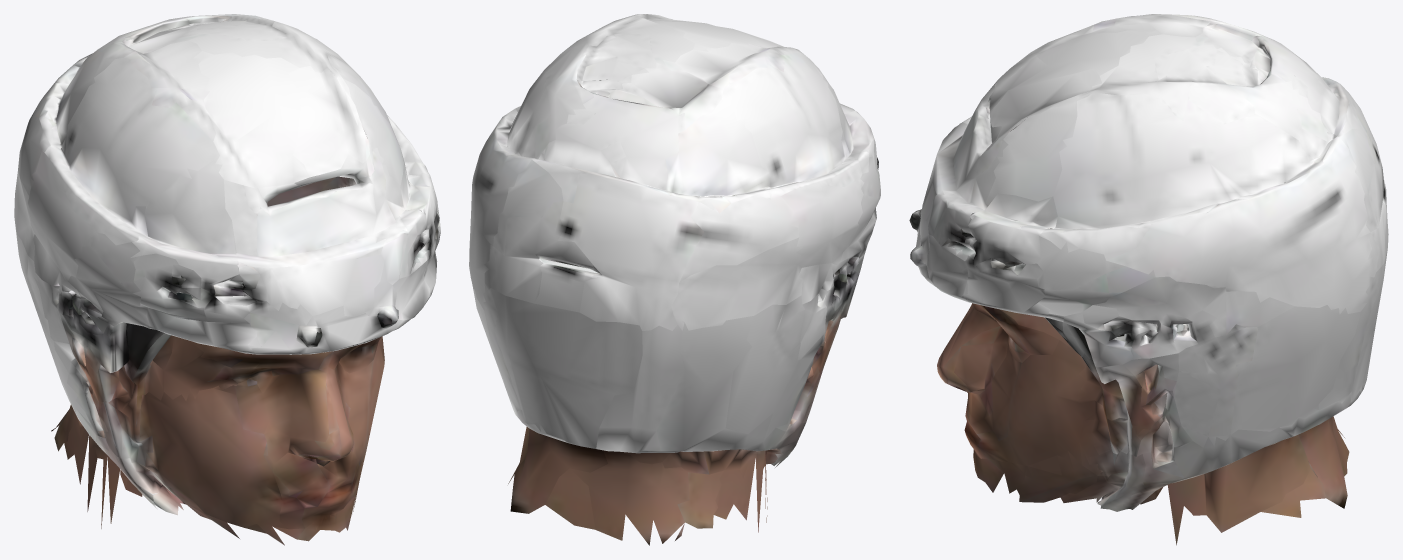
Rendered from head_A_low.glb.
The picture shows the model from 3 angles, left to right: view 1: azimuth 30°, elevation 25°; view 2: azimuth 150°, elevation 25°; view 3: azimuth 270°, elevation 25°; orthographic projection. The views are drawn at different scales.
Visible parts, largest first — view 1: head; view 2: head; view 3: head.
Boxes of the visible parts, <box> form: head: <box>14,14,440,545</box>; head: <box>469,14,880,545</box>; head: <box>909,14,1388,545</box>.
Bounding box in the file's own units: 0.227 × 0.2982 × 0.277.
Materials: 1 (1 with a texture image).
